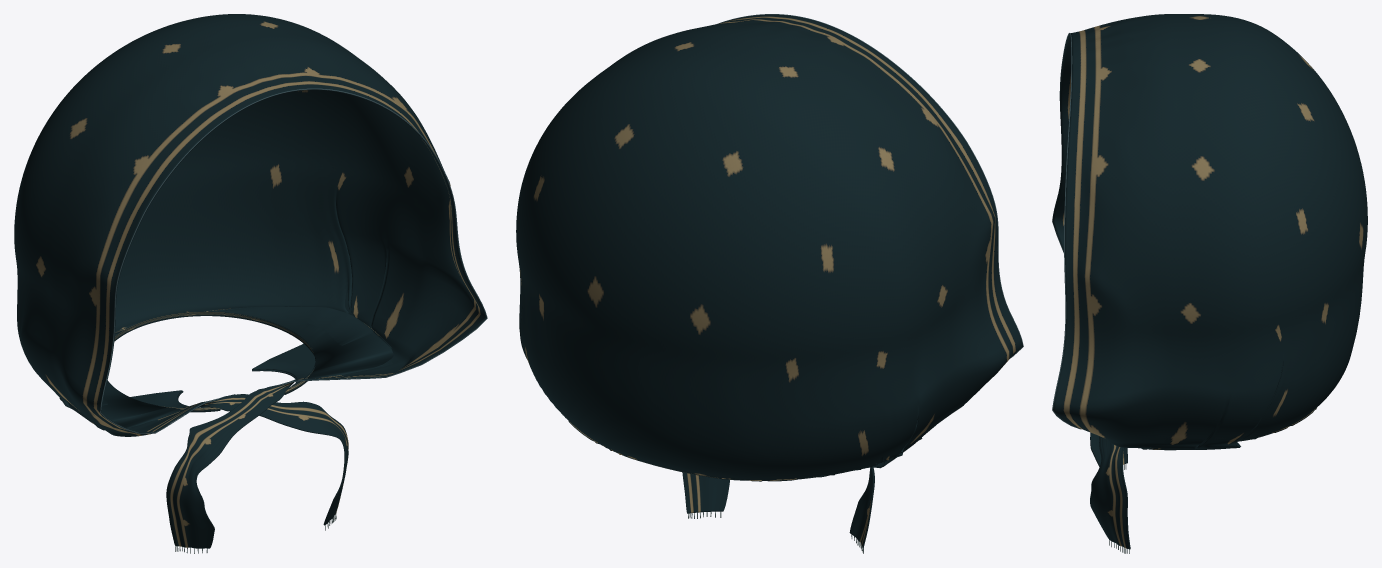
The model's file is Feminine-curls-tank-pashmina250-headgear.glb.
3 renders of one model, left to right at view 1: azimuth 30°, elevation 25°; view 2: azimuth 150°, elevation 25°; view 3: azimuth 270°, elevation 25°, orthographic. The views are drawn at different scales.
Parts seen in each view (by area): view 1: 226 headgear / Headwear / continuous woven pashmina239, 226 headgear / Headwear / face edge239; view 2: 226 headgear / Headwear / continuous woven pashmina239, 226 headgear / Headwear / face edge239; view 3: 226 headgear / Headwear / continuous woven pashmina239, 226 headgear / Headwear / face edge239.
Part boxes in pixels (x1,y1,x2,y2): 226 headgear / Headwear / continuous woven pashmina239: [14, 14, 486, 548]; 226 headgear / Headwear / face edge239: [100, 88, 487, 433]; 226 headgear / Headwear / continuous woven pashmina239: [516, 14, 1022, 547]; 226 headgear / Headwear / face edge239: [717, 14, 1023, 358]; 226 headgear / Headwear / continuous woven pashmina239: [1052, 14, 1367, 549]; 226 headgear / Headwear / face edge239: [1052, 33, 1081, 429].
Size of the model in its own units: 1.21 by 1.4 by 0.8348.
Materials: 3 (1 with a texture image).
